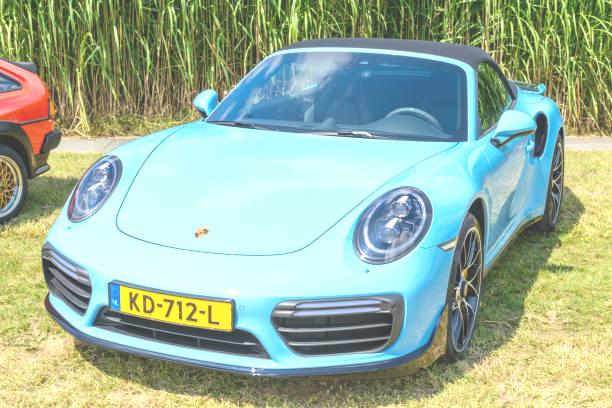porsche: (189, 219, 216, 246)
